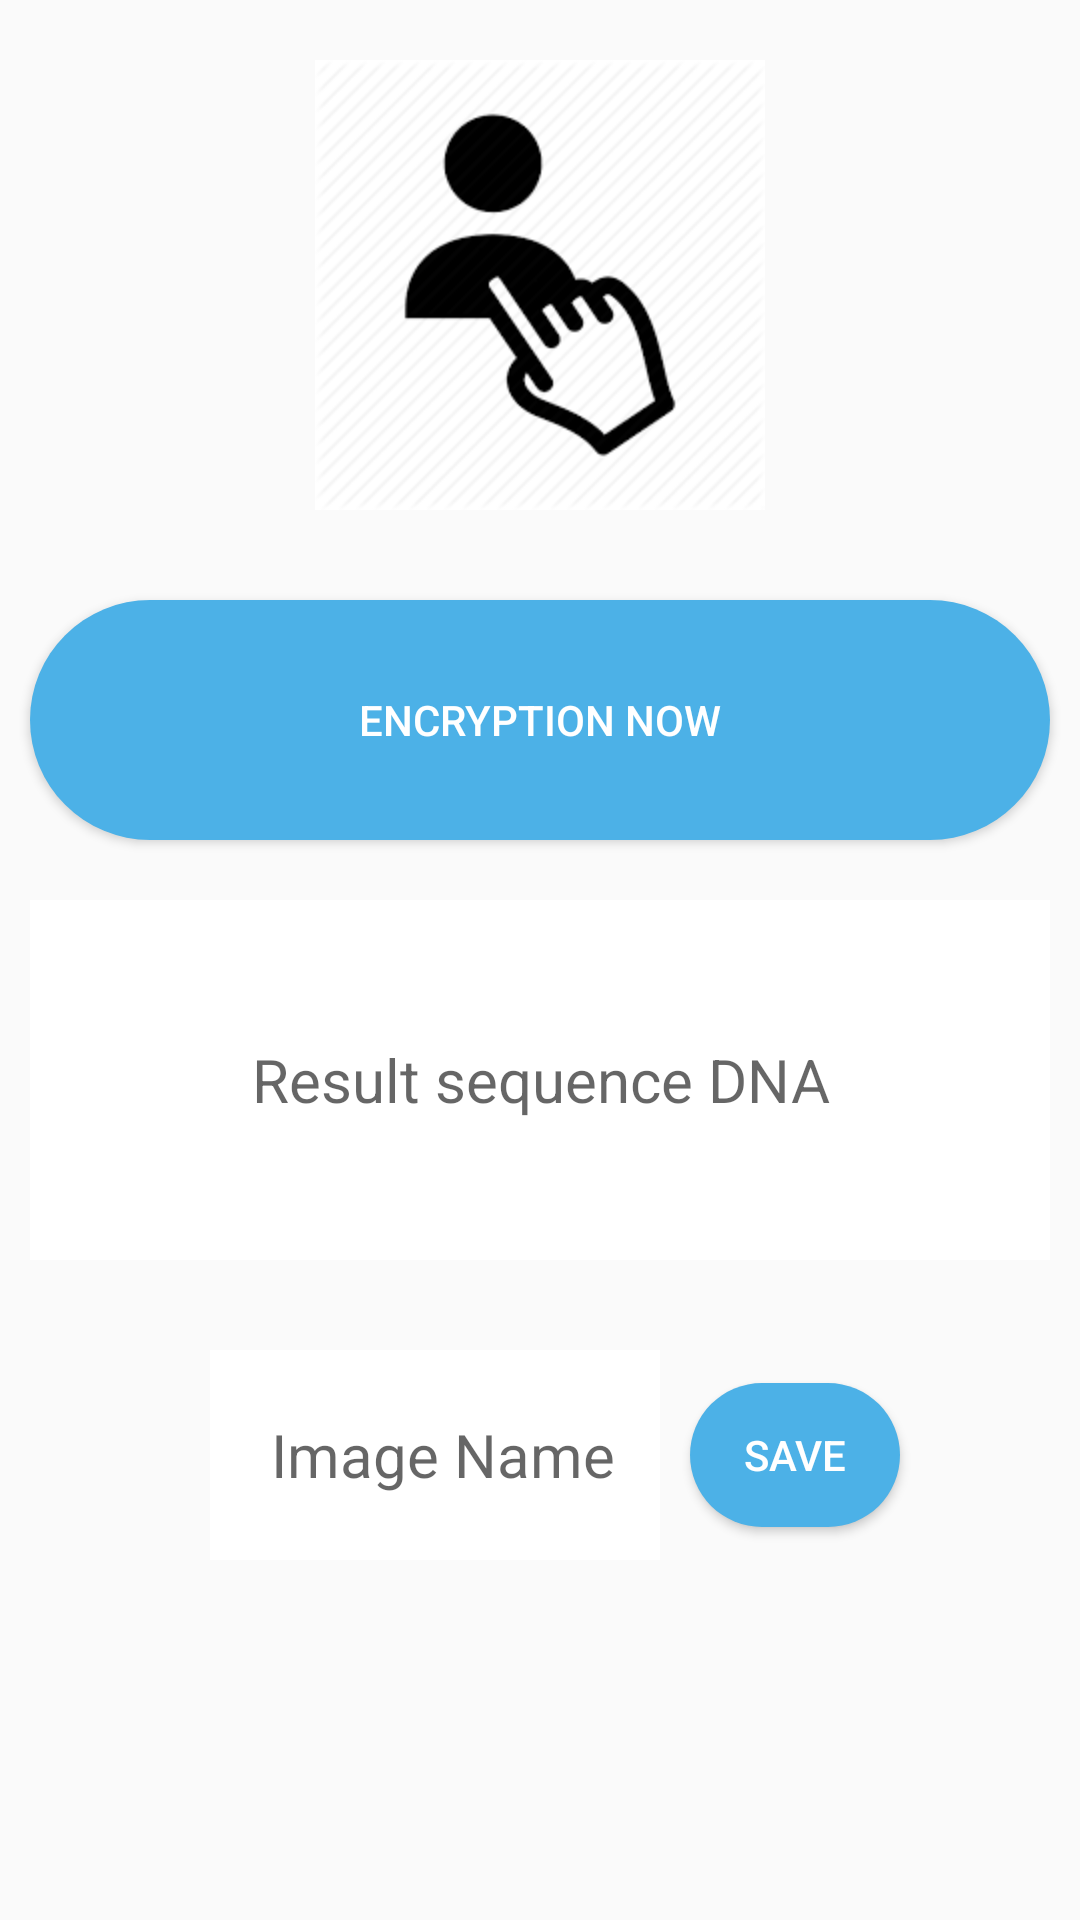

Named icons in this screenshot (1080 x 1920) and their bounding boxes, box=[x1, y1, x2, y2]:
imgselect: box=[404, 113, 676, 457]
